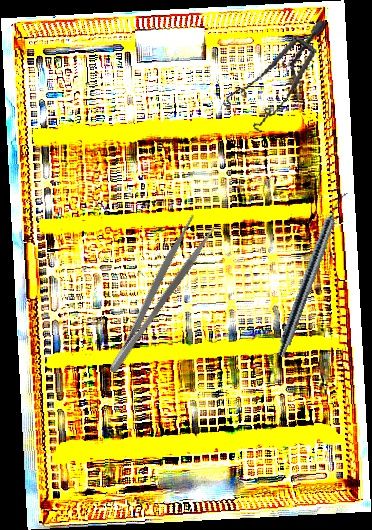Dressing Forceps: (93, 212, 218, 377)
Handpiece: (274, 188, 350, 360)
Speculum: (218, 3, 326, 141)
